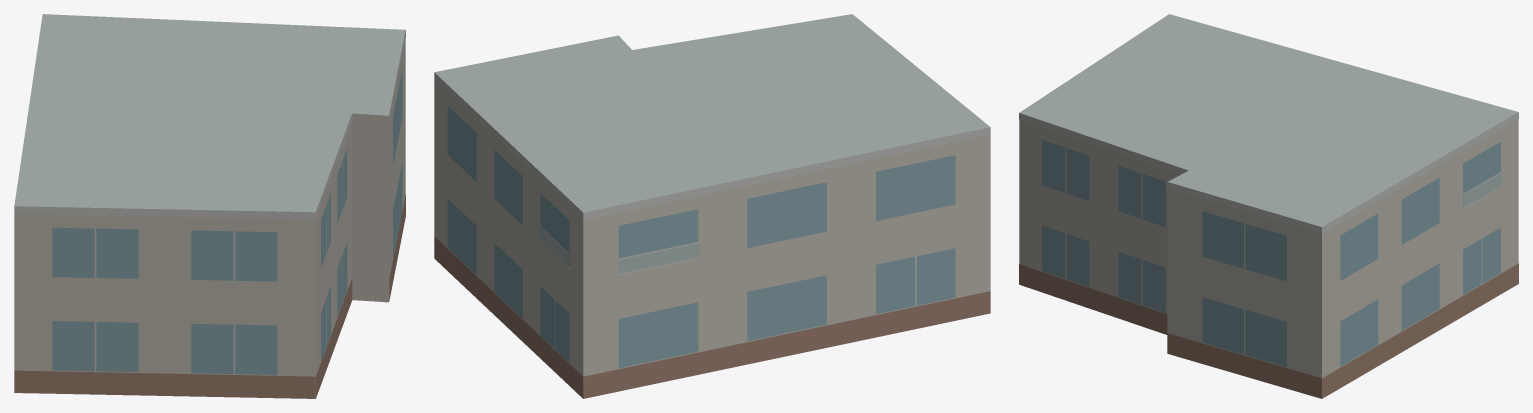
File: survey-upis-32930258.glb
3 renders of one model, left to right at view 1: azimuth 30°, elevation 25°; view 2: azimuth 150°, elevation 25°; view 3: azimuth 270°, elevation 25°, orthographic. The views are drawn at different scales.
Parts seen in each view (by area): view 1: survey-upis-32930258.tmp; view 2: survey-upis-32930258.tmp; view 3: survey-upis-32930258.tmp.
Part boxes in pixels (x1,y1,x2,y2): survey-upis-32930258.tmp: [14, 14, 405, 398]; survey-upis-32930258.tmp: [434, 14, 990, 398]; survey-upis-32930258.tmp: [1019, 14, 1518, 398].
Size of the model in its own units: 16.24 by 6.1 by 16.09.
